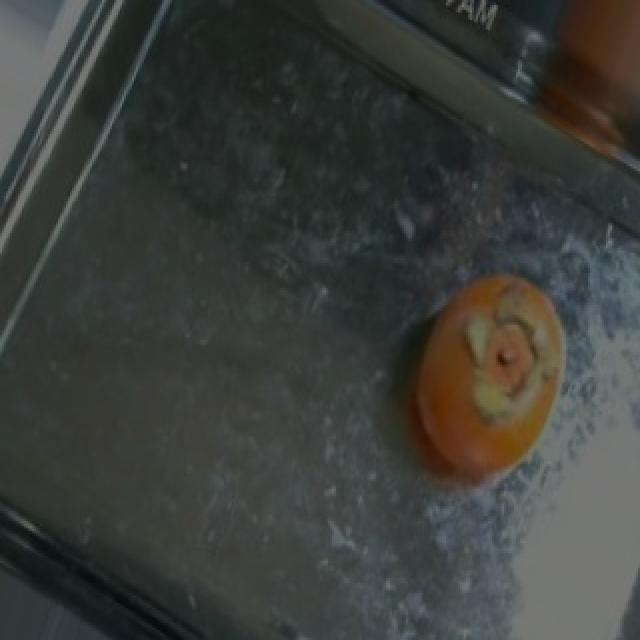Fruit: (380, 256, 588, 511)
